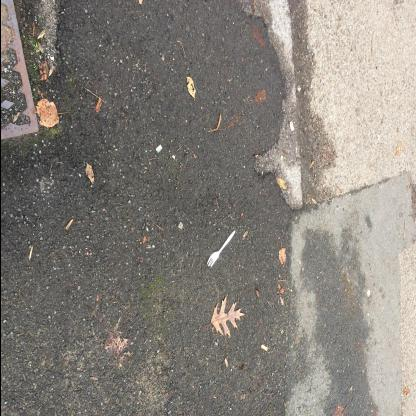plastik: (204, 230, 235, 270)
